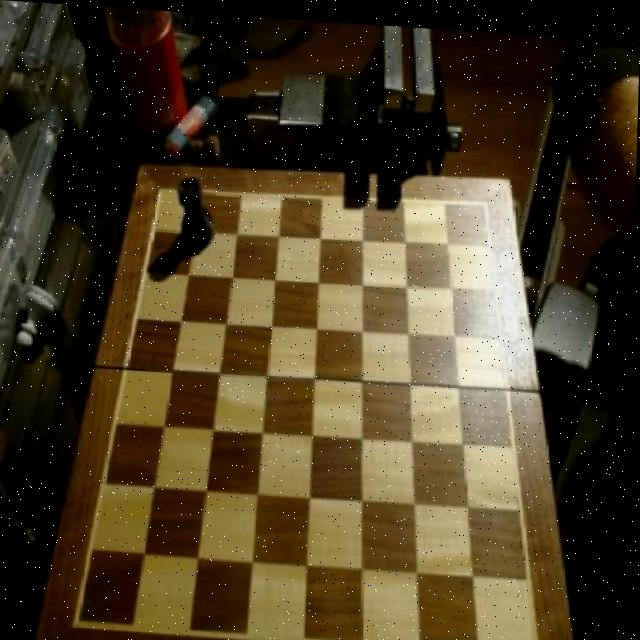black-queen: (174, 177, 219, 250)
